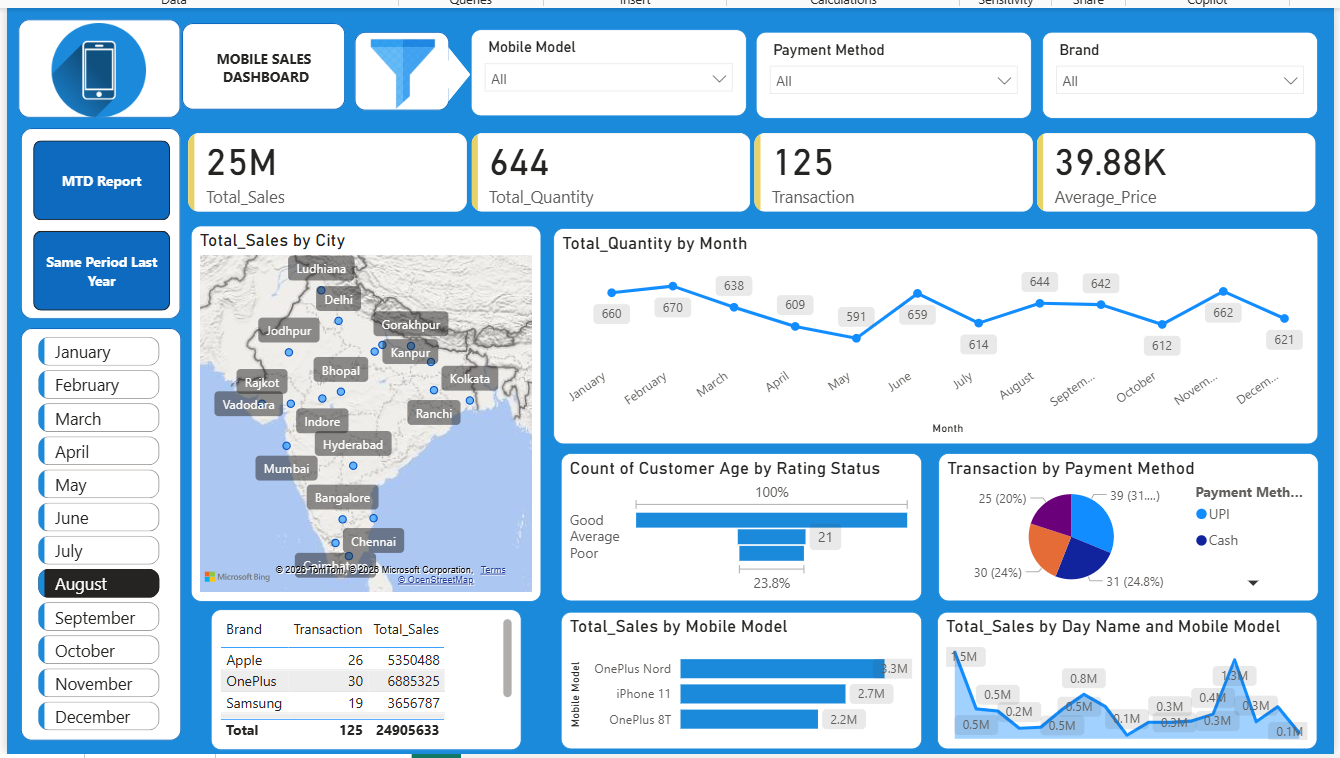

What the dashboard file says about the page in this screenshot:
{"tool":"powerbi","page":{"name":"Dashboard","canvas":[1280,720],"ordinal":0},"visuals":[{"type":"shape","box":[10.8,10.8,156.6,95.2],"z":0},{"type":"image","box":[37.3,14.5,102.4,91.6],"z":1000},{"type":"shape","box":[13.3,115.7,154.2,184.3],"z":2000},{"type":"shape","box":[13.3,308.3,155,398.3],"z":3000},{"type":"advancedSlicerVisual","fields":{"Values":["Custom Calender.Date.Variation.Date Hierarchy.Month"]},"box":[25,312.5,127.5,395],"z":4000},{"type":"cardVisual","fields":{"Data":["Sales data.Total_Sales","Sales data.Total_Quantity","Sales data.Transaction","Sales data.Average_Price"]},"box":[157.5,103.8,1122.5,110],"z":5000},{"type":"slicer","fields":{"Values":["Sales data.Mobile Model"]},"box":[447.5,20,266.2,83.8],"z":6000},{"type":"slicer","fields":{"Values":["Sales data.Payment Method"]},"box":[722.5,22.5,266.2,83.8],"z":7000},{"type":"slicer","fields":{"Values":["Sales data.Brand"]},"box":[998.8,22.5,266.2,83.8],"z":8000},{"type":"shape","box":[335.4,23.1,91.5,76.2],"z":9000},{"type":"image","box":[321.5,24.6,120,79.2],"z":10000},{"type":"shape","box":[404.4,37.8,43.3,53.3],"z":11000},{"type":"shape","box":[168.8,15,157.5,83.8],"z":12000},{"type":"textbox","box":[177.5,35,141.2,45],"z":13000},{"type":"map","title":"Total_Sales by City","fields":{"Category":["Sales data.City"]},"box":[177.1,210,338.6,362.9],"z":14000},{"type":"lineChart","fields":{"Category":["Custom Calender.Date.Variation.Date Hierarchy.Month"],"Y":["Sales data.Total_Quantity"]},"box":[527.1,212.9,738.6,208.6],"z":15000},{"type":"funnel","fields":{"Category":["Sales data.Rating Status","Sales data.Customer Ratings"],"Y":["CountNonNull(Sales data.Customer Age)"]},"box":[534.3,430,348.6,142.9],"z":16000},{"type":"pieChart","fields":{"Y":["Sales data.Transaction"],"Category":["Sales data.Payment Method"]},"box":[898.6,430,367.1,142.9],"z":17000},{"type":"clusteredBarChart","fields":{"Y":["Sales data.Total_Sales"],"Category":["Sales data.Mobile Model"]},"box":[534.3,582.9,348.6,132.9],"z":18000},{"type":"areaChart","fields":{"Category":["Custom Calender.Day Name","Sales data.Mobile Model"],"Y":["Sales data.Total_Sales"]},"box":[897.1,582.9,367.1,132.9],"z":19000},{"type":"tableEx","fields":{"Values":["Sales data.Brand","Sales data.Transaction","Sales data.Total_Sales"]},"box":[197.1,580,300,135.7],"z":20000},{"type":"pageNavigator","box":[25,127.5,132.5,165],"z":20001}]}

Visuals, with their boxes in screenshot pixels (x1, y1, x2, y2):
shape: left=18, top=18, right=180, bottom=116
image: left=45, top=22, right=151, bottom=117
shape: left=21, top=126, right=180, bottom=317
shape: left=21, top=325, right=181, bottom=736
advancedSlicerVisual - Custom Calender.Date.Variation.Date Hierarchy.Month: left=33, top=330, right=164, bottom=737
cardVisual - Sales data.Total_Sales x Sales data.Total_Quantity: left=170, top=114, right=1328, bottom=228
slicer - Sales data.Mobile Model: left=469, top=28, right=744, bottom=114
slicer - Sales data.Payment Method: left=753, top=30, right=1028, bottom=117
slicer - Sales data.Brand: left=1038, top=30, right=1313, bottom=117
shape: left=353, top=31, right=448, bottom=109
image: left=339, top=32, right=463, bottom=114
shape: left=424, top=46, right=469, bottom=101
shape: left=181, top=22, right=344, bottom=109
textbox: left=190, top=43, right=336, bottom=90
"Total_Sales by City" map: left=190, top=224, right=539, bottom=598
lineChart - Custom Calender.Date.Variation.Date Hierarchy.Month x Sales data.Total_Quantity: left=551, top=227, right=1314, bottom=442
funnel - Sales data.Rating Status x Sales data.Customer Ratings: left=559, top=451, right=918, bottom=598
pieChart - Sales data.Transaction x Sales data.Payment Method: left=935, top=451, right=1314, bottom=598
clusteredBarChart - Sales data.Total_Sales x Sales data.Mobile Model: left=559, top=609, right=918, bottom=746
areaChart - Custom Calender.Day Name x Sales data.Mobile Model: left=933, top=609, right=1312, bottom=746
tableEx - Sales data.Brand x Sales data.Transaction: left=210, top=606, right=520, bottom=746
pageNavigator: left=33, top=139, right=170, bottom=309
